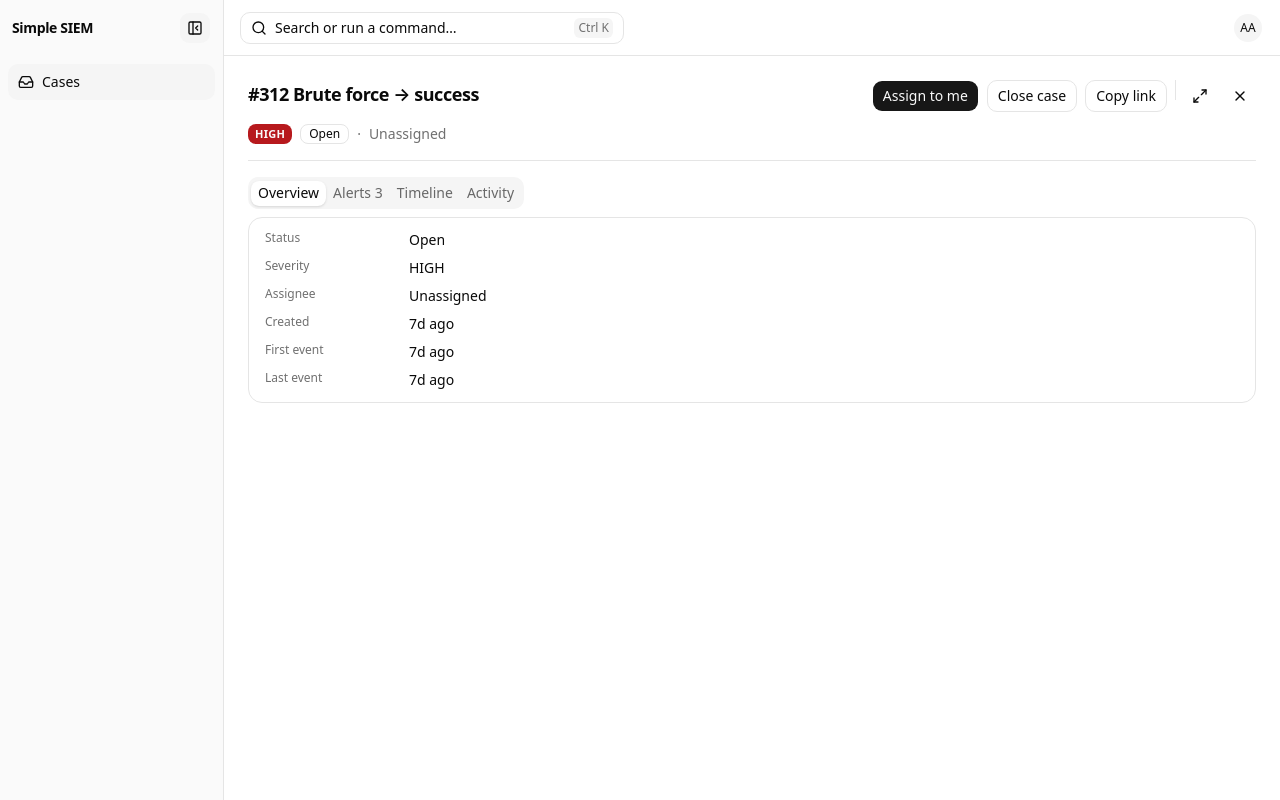
Test: assign to me › assigns from the header with the case version and my id
What coordinates should you click on to do the following:
click the button "Assign to me"
I would click on:
 (925, 96)
Its box is [872,80,979,112].
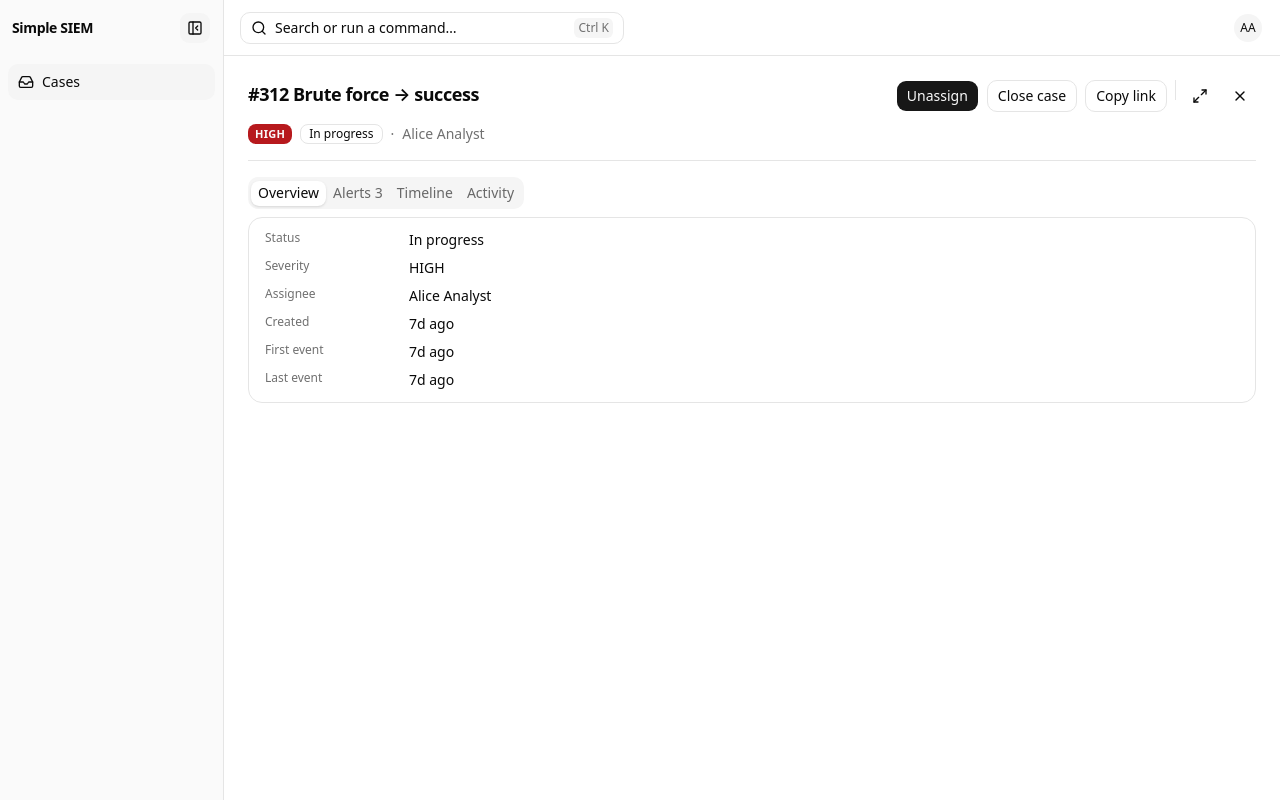
Now the button "Unassign" is shown, box [896,80,979,112]
